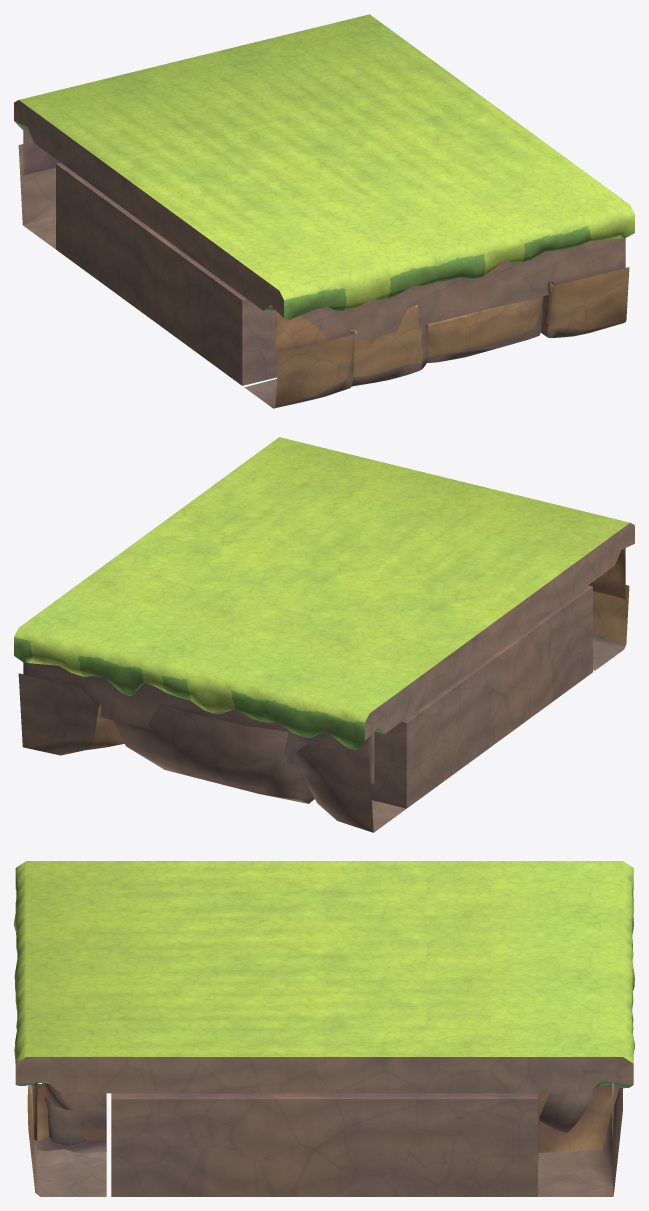
File: T05_CliffStepModule.fbx
3 renders of one model, top to bottom at view 1: azimuth 30°, elevation 25°; view 2: azimuth 150°, elevation 25°; view 3: azimuth 270°, elevation 25°, orthographic. The views are drawn at different scales.
Visible parts, largest first — view 1: T05_CliffStepModule; view 2: T05_CliffStepModule; view 3: T05_CliffStepModule.
Part boxes in pixels (x1=…): T05_CliffStepModule: x1=14, y1=14, x2=634, y2=408; T05_CliffStepModule: x1=14, y1=437, x2=634, y2=832; T05_CliffStepModule: x1=14, y1=861, x2=634, y2=1196.
Bounding box in the file's own units: 3 × 1.02 × 4.02.
